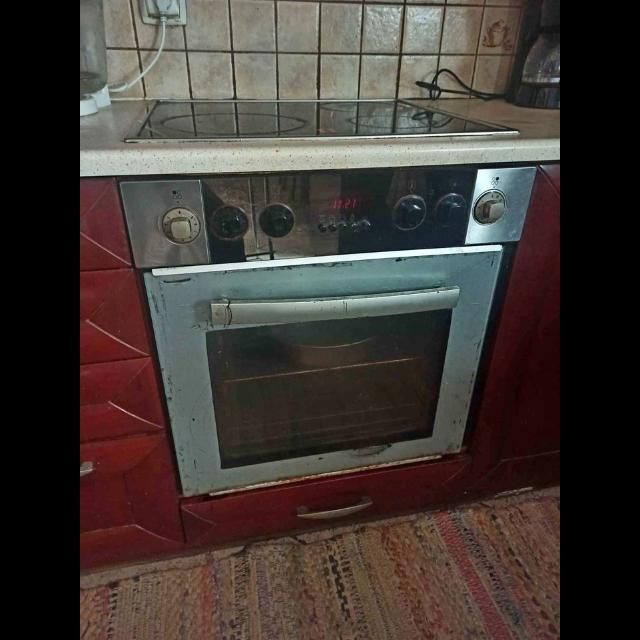Oven: (121, 167, 513, 457)
